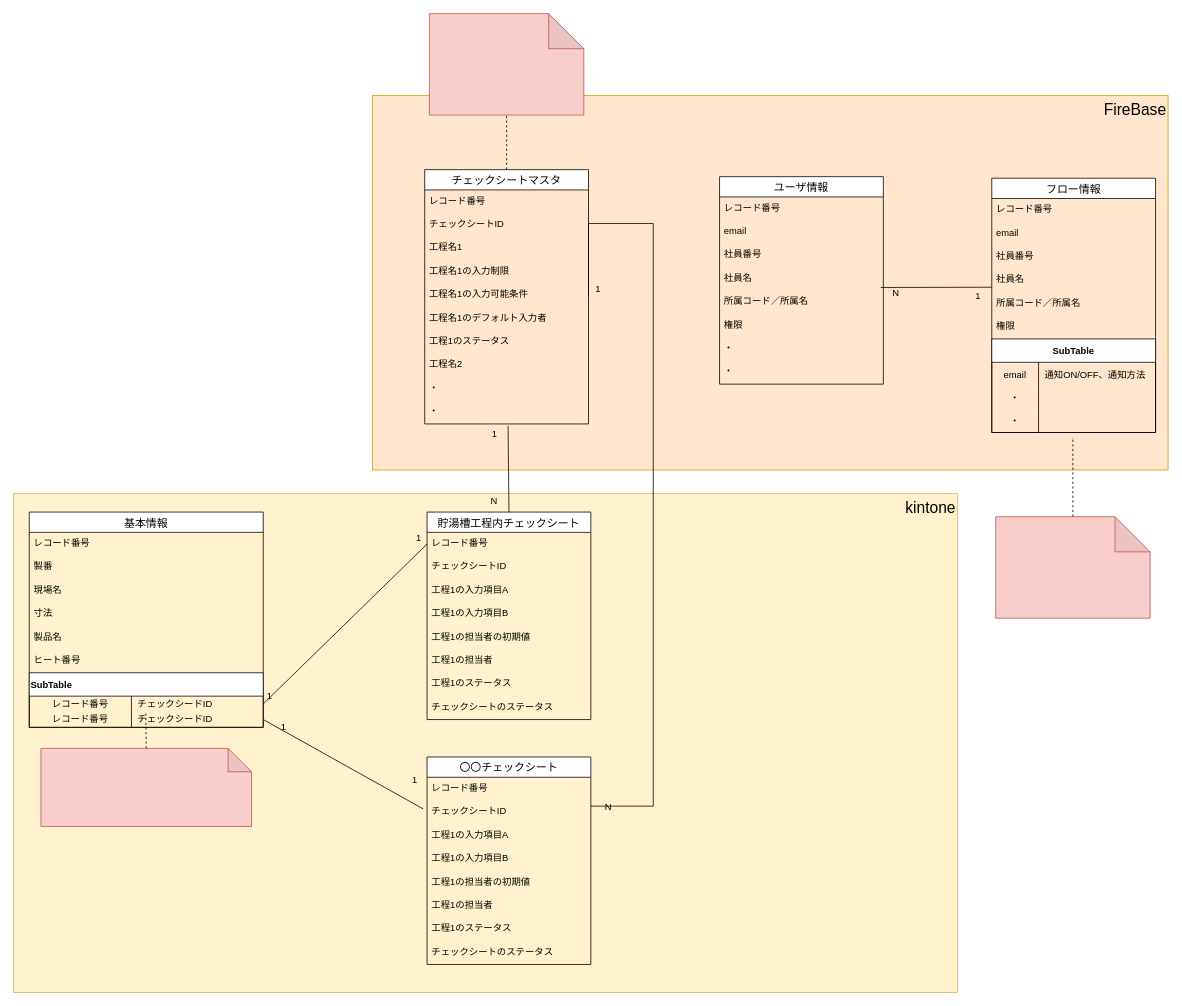
The diagram is 1182 pixels wide and 1006 high, and some of its shapes have lost their labels. The shapes that lost their labels are listed below. From the top down, each one's centre as x and y in pixels, then its label:
At (x=506, y=64): "レコード数=チェックシートの種類".
At (x=1072, y=567): "ステータス毎にユーザを割り当てる 通知設定を保存数。".
At (x=146, y=787): "チェックシート登録時の選択状態で複数生成 後から追加も可能とする".
